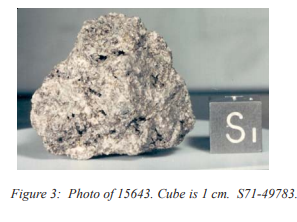Basalt: (25, 12, 203, 168)
